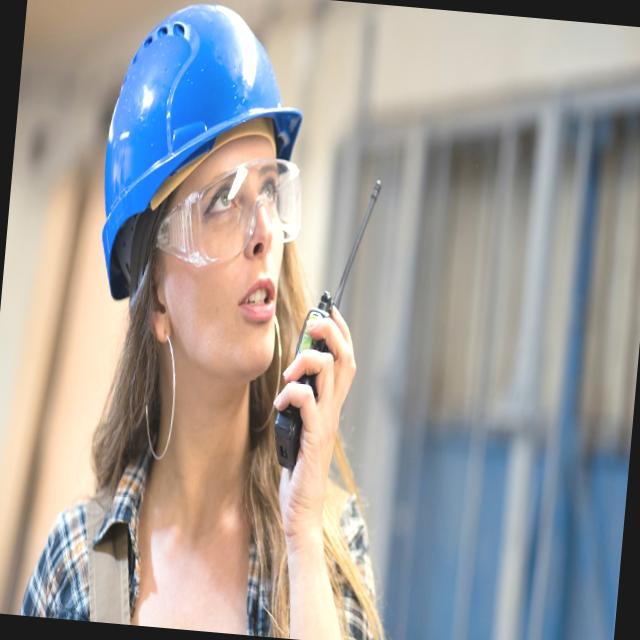goggles: (153, 152, 313, 264)
helmet: (88, 22, 320, 276)
no-vest: (18, 435, 373, 640)
